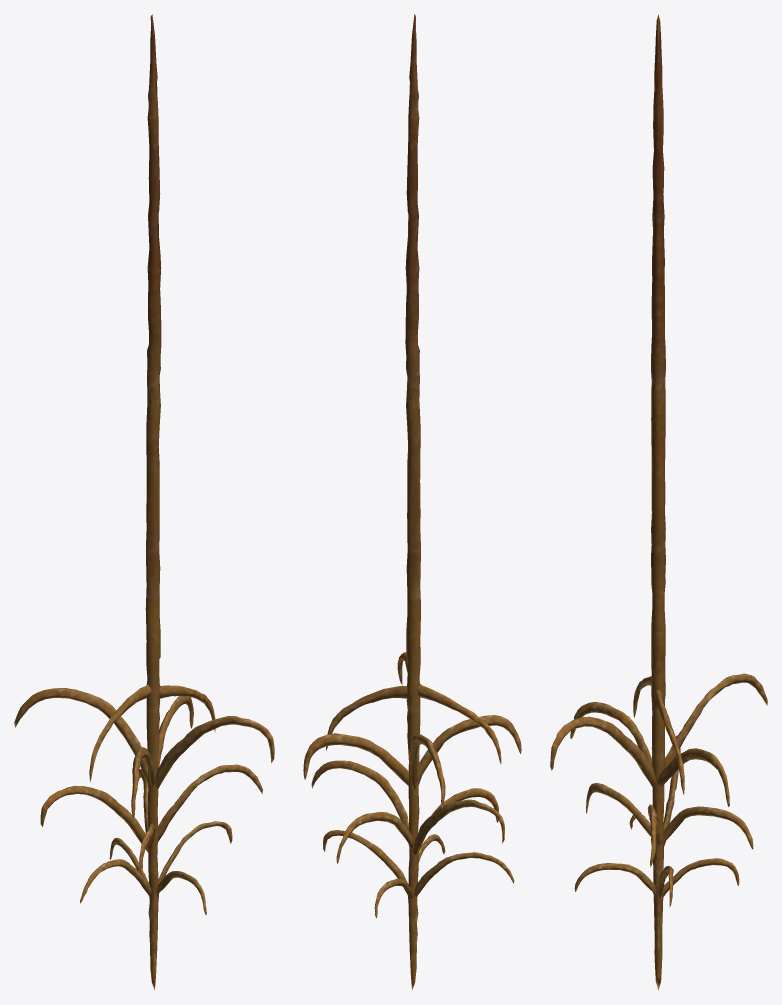
The model's file is weapon-wp_a_0945.glb.
The picture shows the model from 3 angles, left to right: view 1: azimuth 30°, elevation 25°; view 2: azimuth 150°, elevation 25°; view 3: azimuth 270°, elevation 25°; orthographic projection.
Visible parts, largest first — view 1: wp_a_0945_mesh; view 2: wp_a_0945_mesh; view 3: wp_a_0945_mesh.
Boxes of the visible parts, left/top/right/bottom form: wp_a_0945_mesh: left=14, top=14, right=274, bottom=990; wp_a_0945_mesh: left=303, top=14, right=521, bottom=990; wp_a_0945_mesh: left=550, top=14, right=767, bottom=990.
Bounding box in the file's own units: 0.545 × 2.45 × 0.4944.
1 material, 1 textured.
